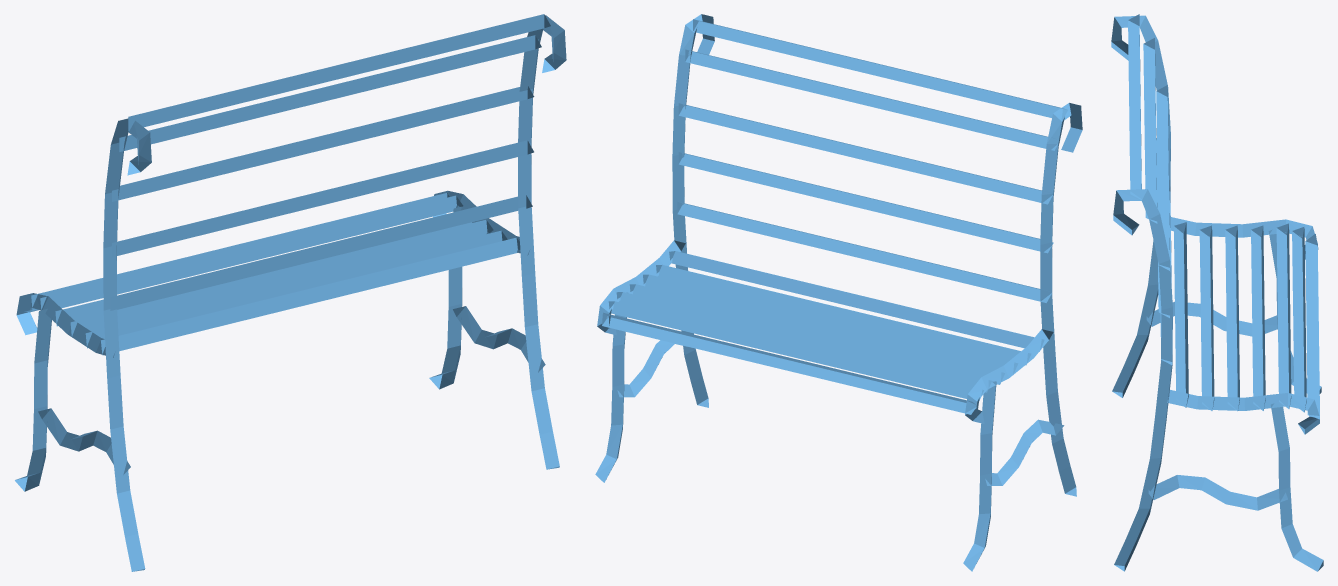
Rendered from bench_from_obj.gltf.
The picture shows the model from 3 angles, left to right: view 1: azimuth 30°, elevation 25°; view 2: azimuth 150°, elevation 25°; view 3: azimuth 270°, elevation 25°; orthographic projection. The views are drawn at different scales.
Bounding box in the file's own units: 2 × 2 × 1.
